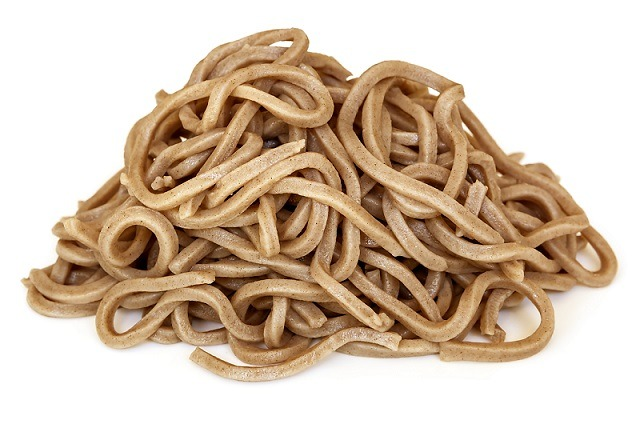Soba: (41, 23, 626, 386)
